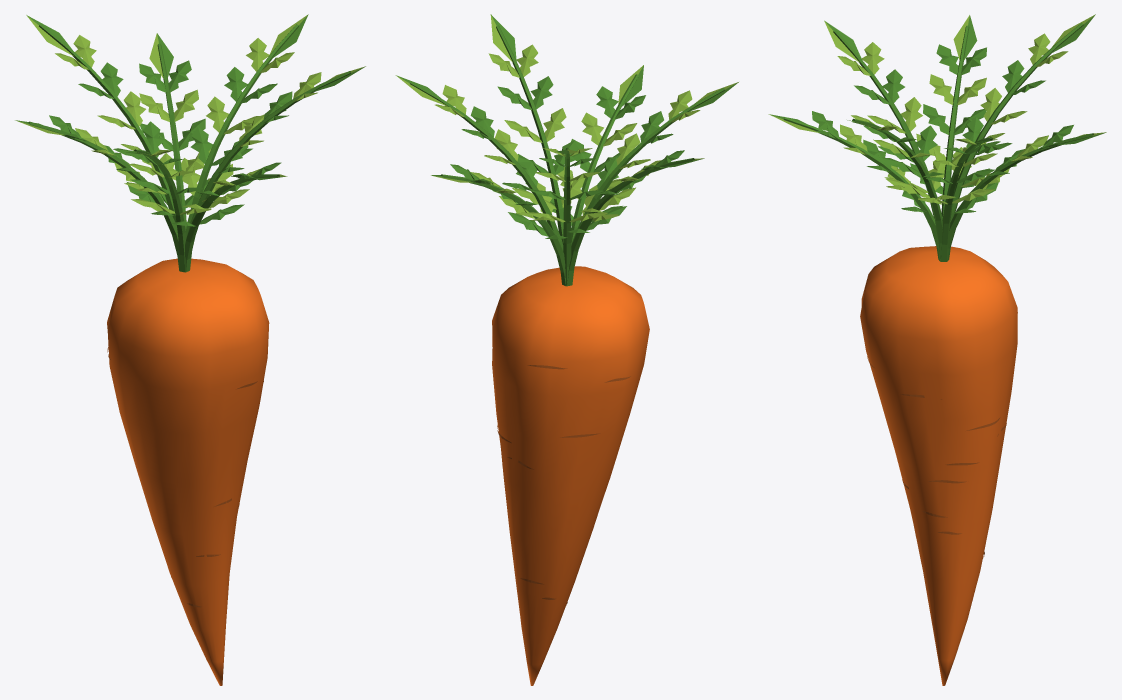
Rendered from harvest-carrot.glb.
The picture shows the model from 3 angles, left to right: view 1: azimuth 30°, elevation 25°; view 2: azimuth 150°, elevation 25°; view 3: azimuth 270°, elevation 25°; orthographic projection. The views are drawn at different scales.
Visible parts, largest first — view 1: KIT_marqueur_carotte; view 2: KIT_marqueur_carotte; view 3: KIT_marqueur_carotte.
Boxes of the visible parts, x1,y1,x2,y2 form: KIT_marqueur_carotte: (15,14,365,685); KIT_marqueur_carotte: (395,14,738,685); KIT_marqueur_carotte: (768,14,1106,685).
Bounding box in the file's own units: 0.7145 × 1.42 × 0.7087.
